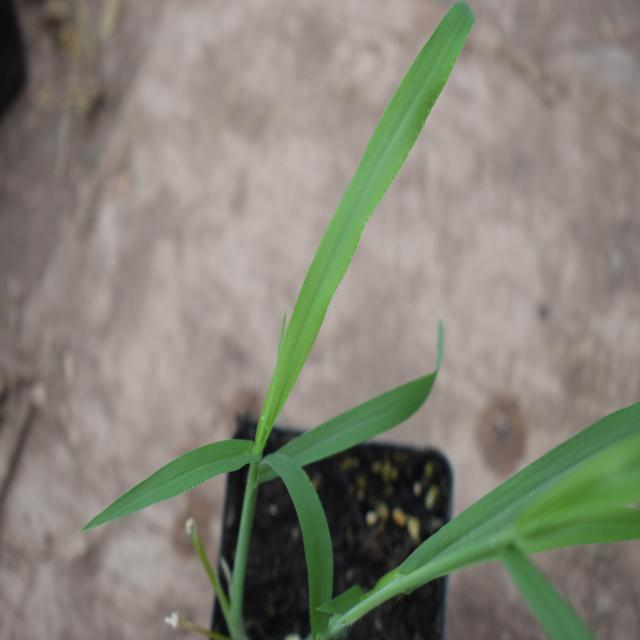crabgrass: (157, 9, 498, 593)
